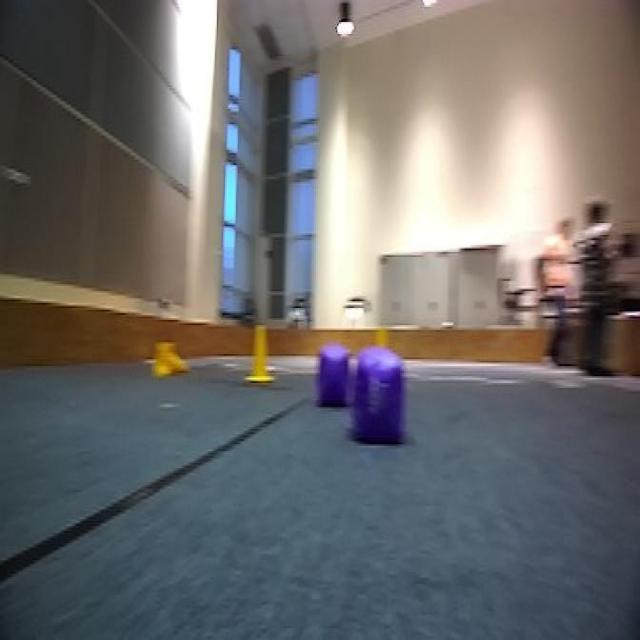frc_cone: (245, 322, 277, 386), (148, 337, 190, 383)
frc_cube: (350, 356, 408, 437), (319, 346, 349, 402)
